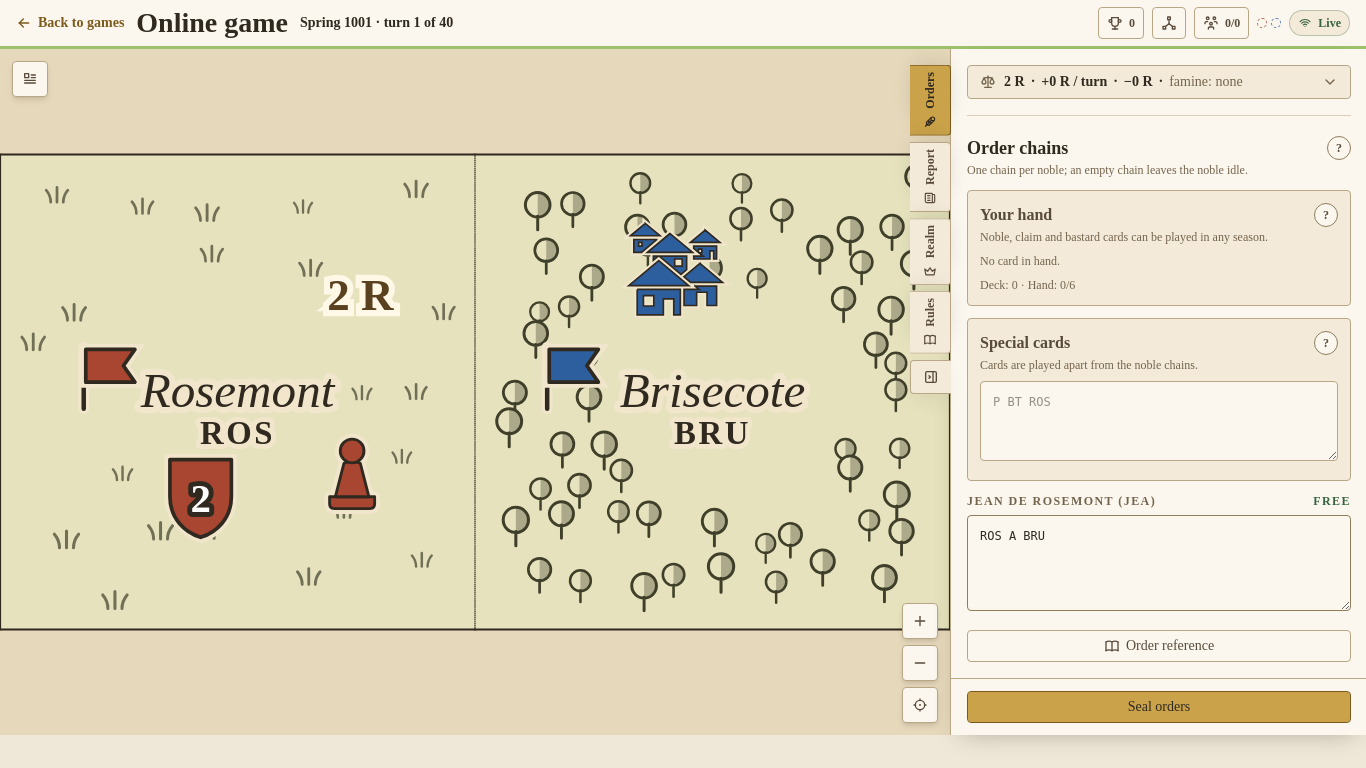
Scenario: GamePage submission rehydration and divergence › rehydrates submitted chain orders into empty textareas on load
expect the heading "Online game" is shown: met, box 136,6 -> 288,40
expect the text "Local draft differs from server" is not shown: met
Replace the text in the text box named "Chain for JEA" with "ROS H" at (1159, 563), box 967,515 -> 1351,611
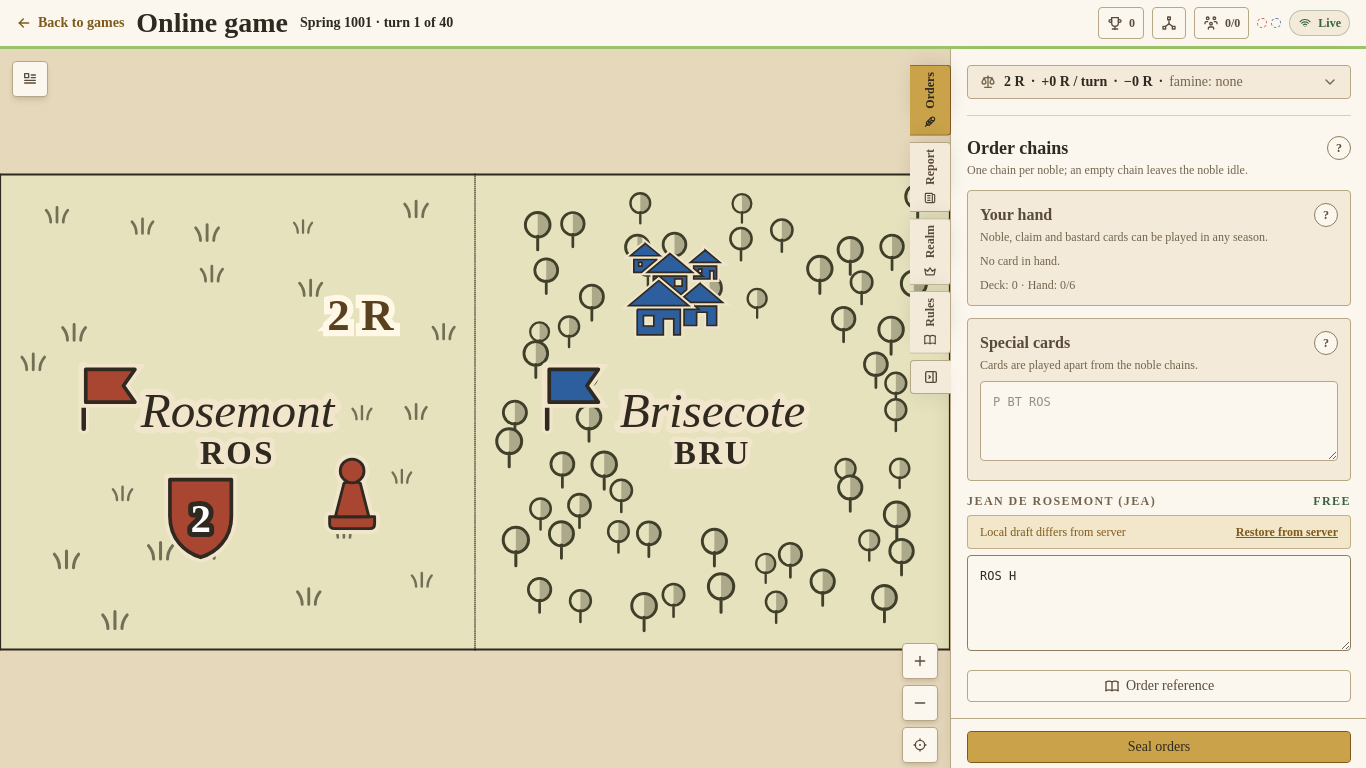
expect the text "Local draft differs from server" is shown: met, box 980,524 -> 1126,540
expect the button "Restore from server" is shown: met
Click the button "Restore from server" at (1287, 532), box 1236,524 -> 1338,540
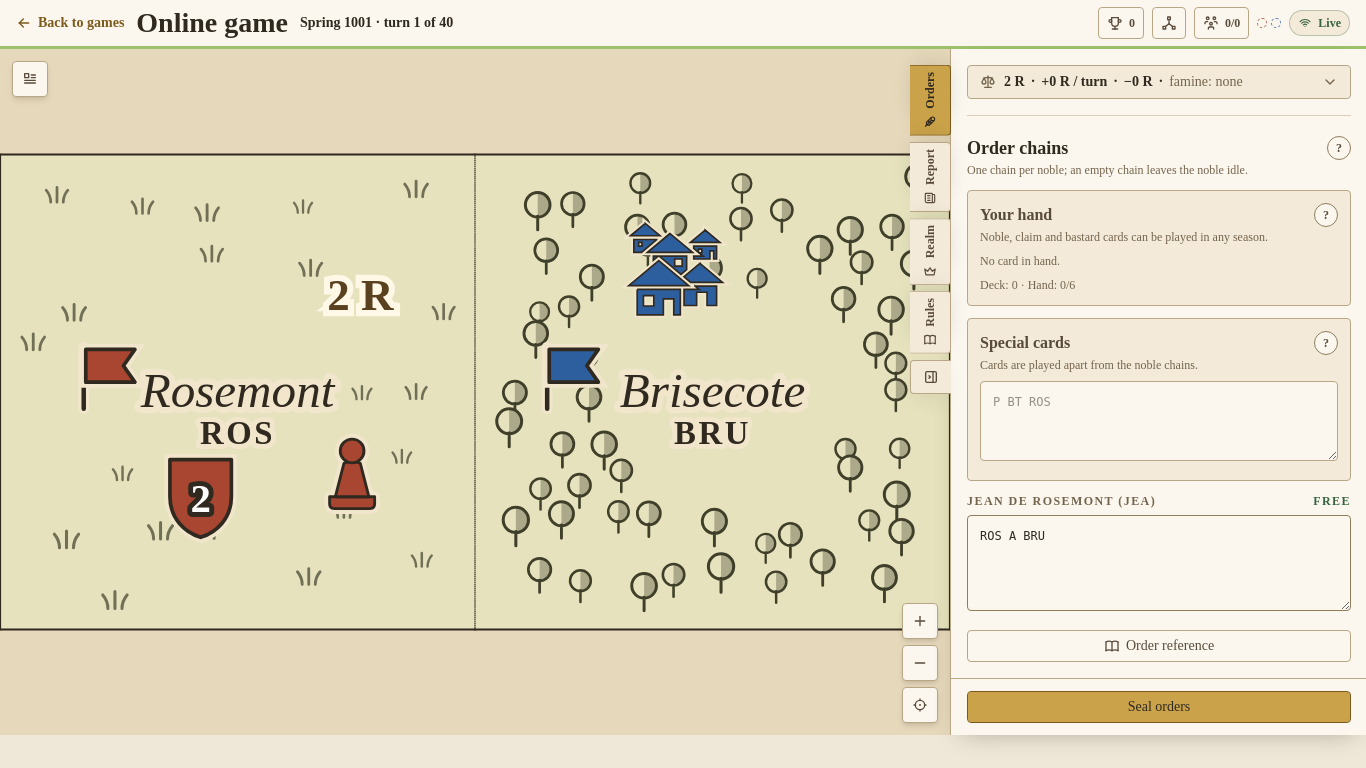
expect the text box named "Chain for JEA" holds "ROS A BRU": met, box 967,515 -> 1351,611
expect the text "Local draft differs from server" is gone: met
